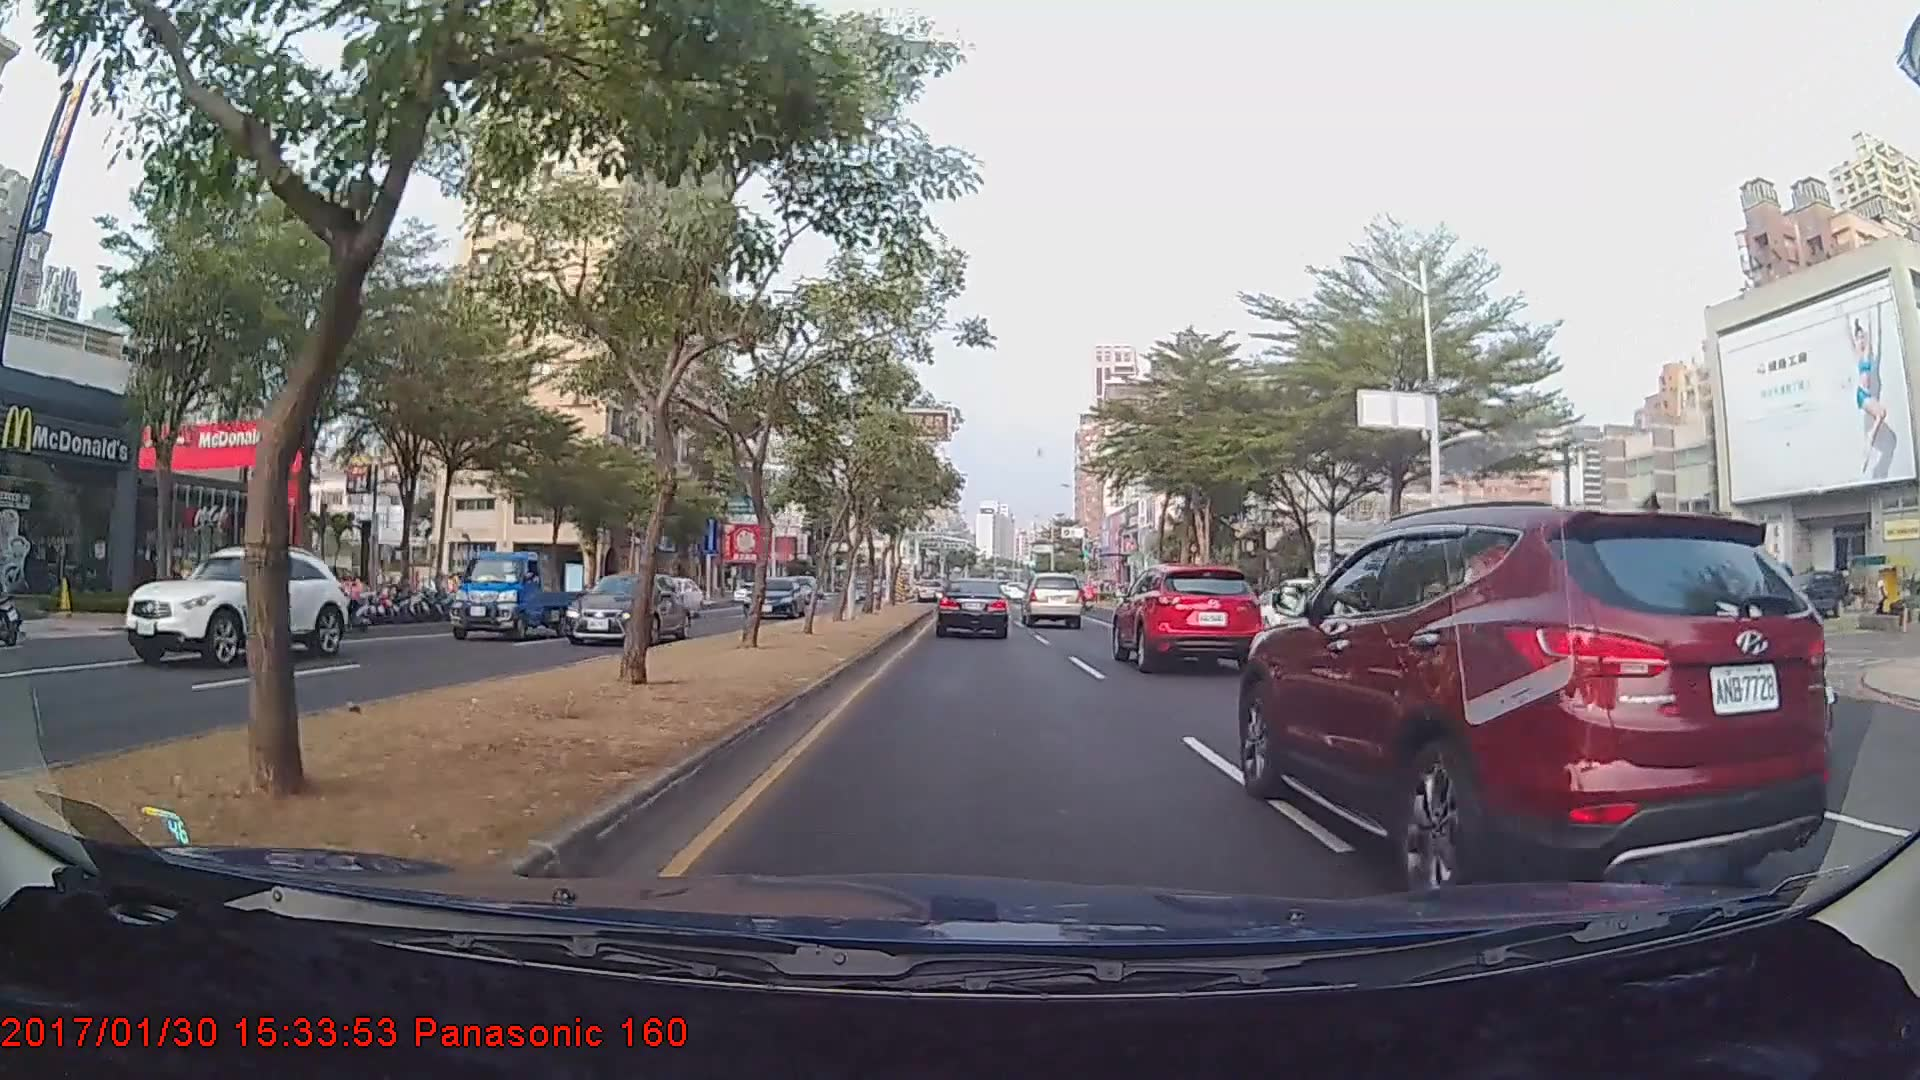vehicle: (1236, 500, 1830, 920), (119, 545, 345, 669), (1112, 564, 1265, 675), (446, 549, 584, 640), (566, 568, 691, 642), (935, 578, 1010, 640), (1021, 572, 1084, 629), (744, 575, 807, 620), (640, 574, 704, 617)
